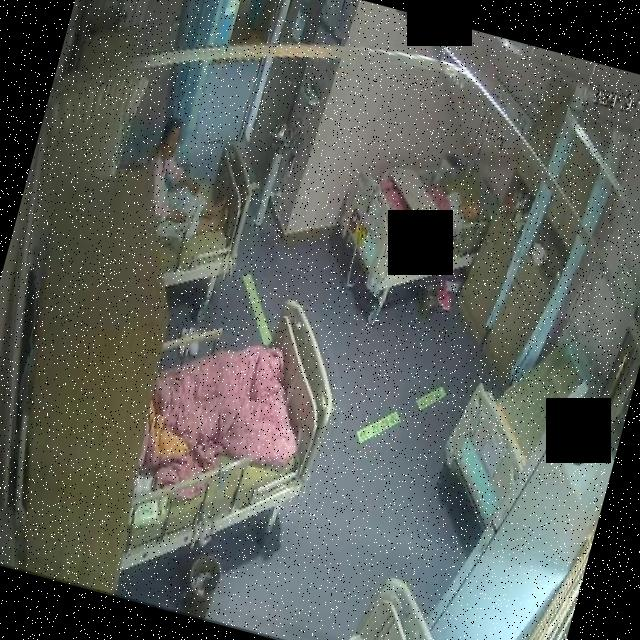bed: (114, 272, 357, 575), (308, 118, 506, 340), (426, 318, 592, 546), (130, 123, 266, 303)
patient: (125, 117, 249, 255), (430, 182, 486, 238)
sit: (126, 120, 246, 250)
